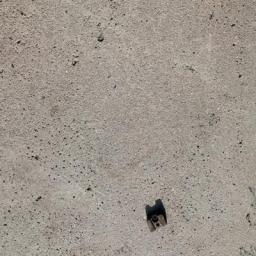FOD: (141, 197, 174, 235)
